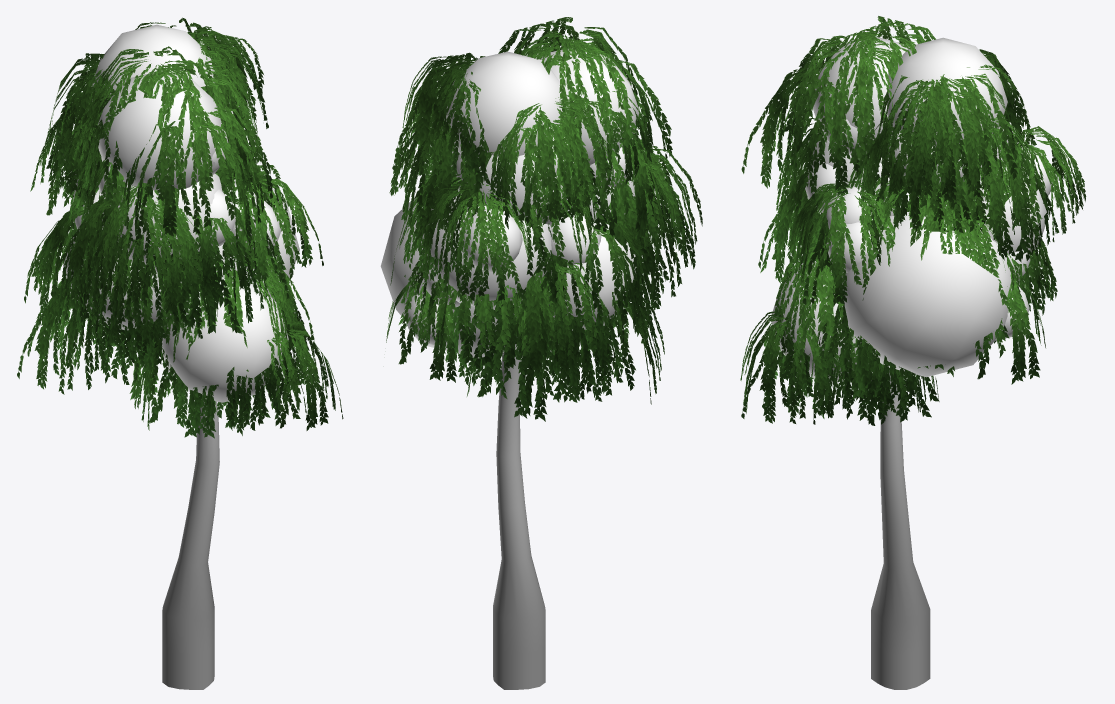
The picture shows the model from 3 angles, left to right: view 1: azimuth 30°, elevation 25°; view 2: azimuth 150°, elevation 25°; view 3: azimuth 270°, elevation 25°; orthographic projection.
Visible parts, largest first — view 1: bj_1_s23850_leaves_LOD0, bj_1_s23850_shadow_LOD0, bj_1_s23850_trunk_LOD0; view 2: bj_1_s23850_leaves_LOD0, bj_1_s23850_shadow_LOD0, bj_1_s23850_trunk_LOD0; view 3: bj_1_s23850_leaves_LOD0, bj_1_s23850_shadow_LOD0, bj_1_s23850_trunk_LOD0.
Boxes of the visible parts, x1,y1,x2,y2 form: bj_1_s23850_leaves_LOD0: [17, 17, 343, 438]; bj_1_s23850_shadow_LOD0: [63, 24, 299, 402]; bj_1_s23850_trunk_LOD0: [162, 399, 219, 689]; bj_1_s23850_leaves_LOD0: [386, 17, 702, 421]; bj_1_s23850_shadow_LOD0: [380, 48, 639, 358]; bj_1_s23850_trunk_LOD0: [493, 350, 545, 689]; bj_1_s23850_leaves_LOD0: [740, 16, 1086, 425]; bj_1_s23850_shadow_LOD0: [771, 36, 1052, 382]; bj_1_s23850_trunk_LOD0: [871, 370, 930, 689].
Size of what is drawn, in the model's own units: 4.77 by 10.97 by 5.73.
